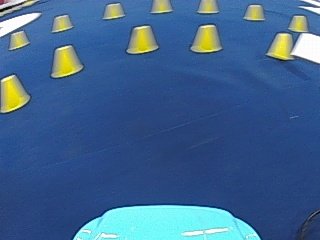cone: (0, 74, 30, 111), (51, 44, 83, 77), (190, 23, 222, 53), (126, 24, 158, 54), (266, 32, 293, 59), (9, 30, 28, 49), (52, 14, 72, 32), (244, 4, 264, 21), (103, 2, 123, 19), (288, 15, 308, 32), (197, 0, 217, 14), (152, 0, 171, 13)
